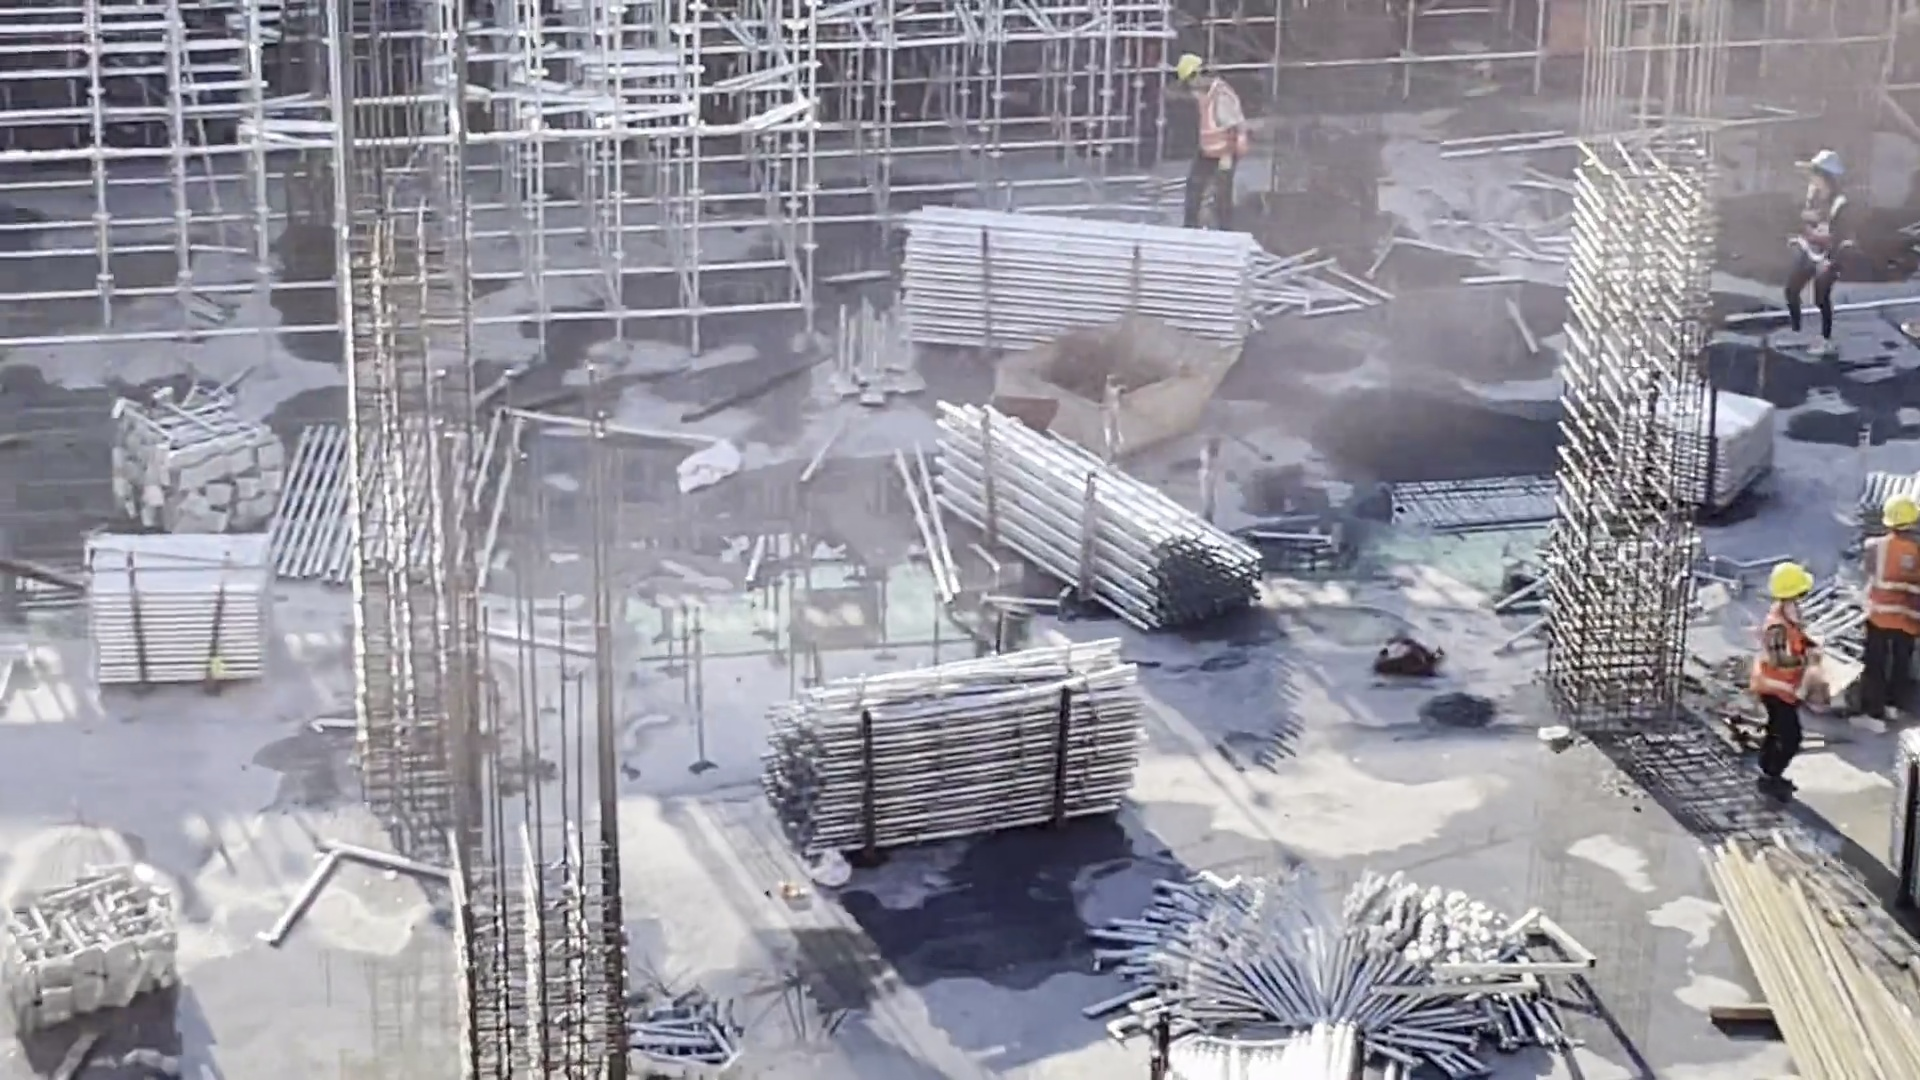helmet: (1755, 557, 1825, 598), (1817, 142, 1855, 178), (1878, 501, 1919, 534), (1173, 50, 1214, 82)
hopper: (1003, 313, 1233, 448)
person: (1173, 49, 1259, 242), (1754, 561, 1818, 813), (1860, 485, 1920, 721), (1795, 145, 1856, 346)
scaffold: (1095, 850, 1569, 1056), (923, 400, 1229, 647), (780, 640, 1133, 838), (910, 203, 1266, 352), (1, 846, 181, 1017), (66, 522, 261, 670), (101, 387, 278, 532), (1645, 376, 1772, 505), (1142, 1014, 1353, 1080)
vest: (1873, 531, 1920, 642), (1762, 608, 1811, 715), (1195, 79, 1247, 171), (1803, 186, 1849, 279)
